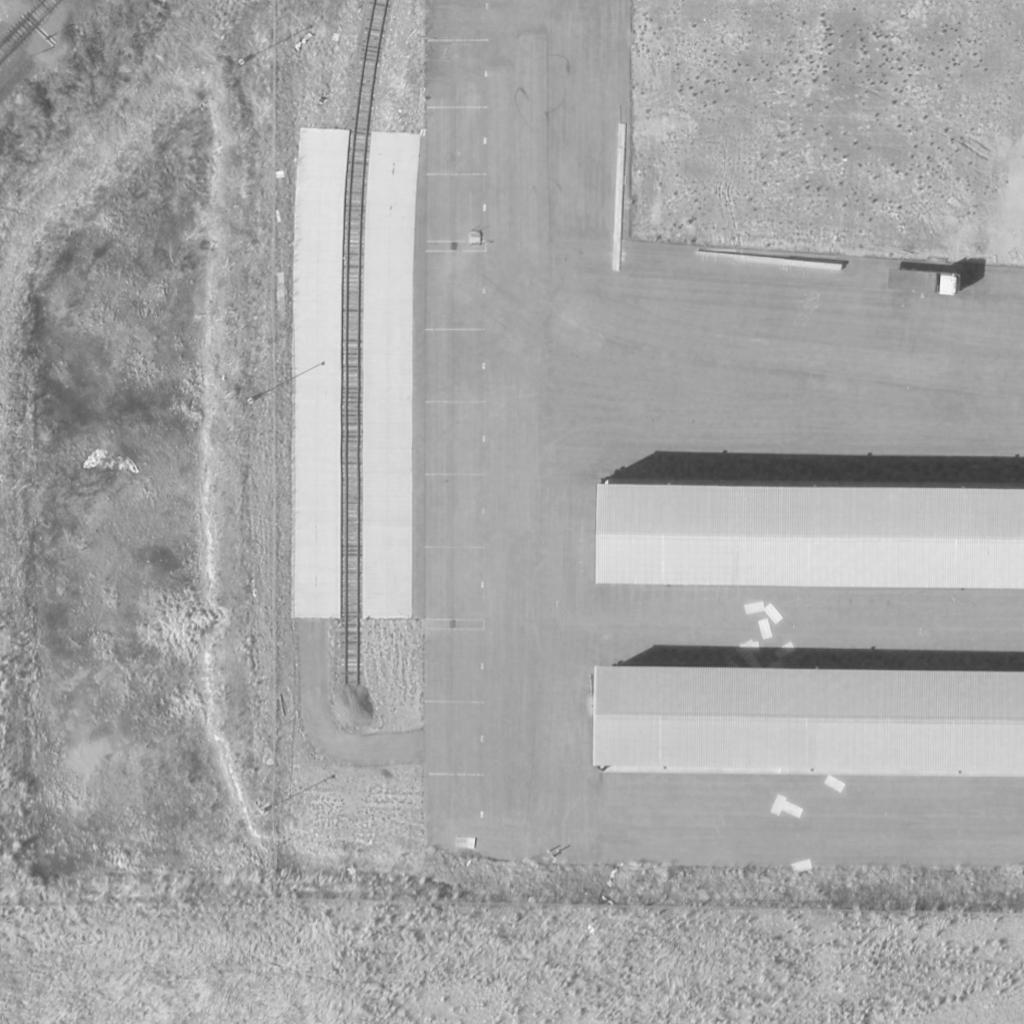vehicle: (886, 267, 962, 297)
